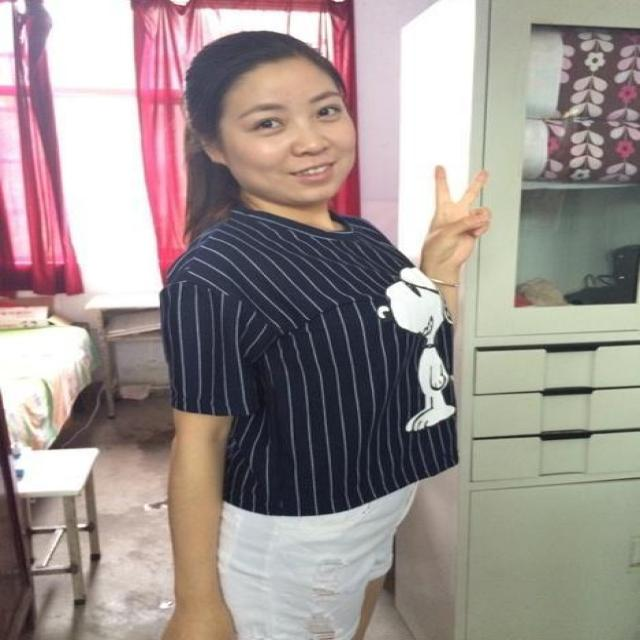short-sleeve-top: (164, 203, 486, 520)
